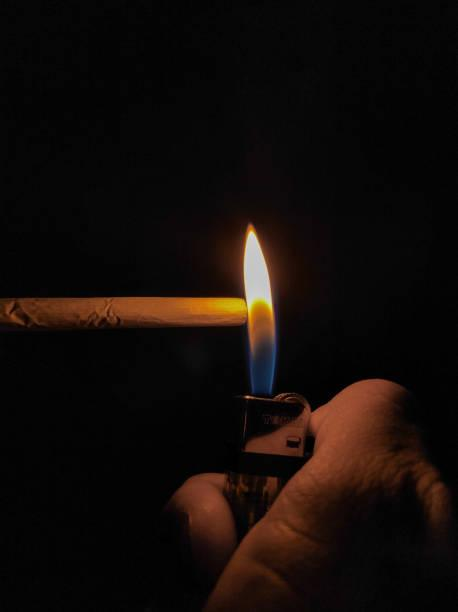Fire: (242, 222, 284, 391)
